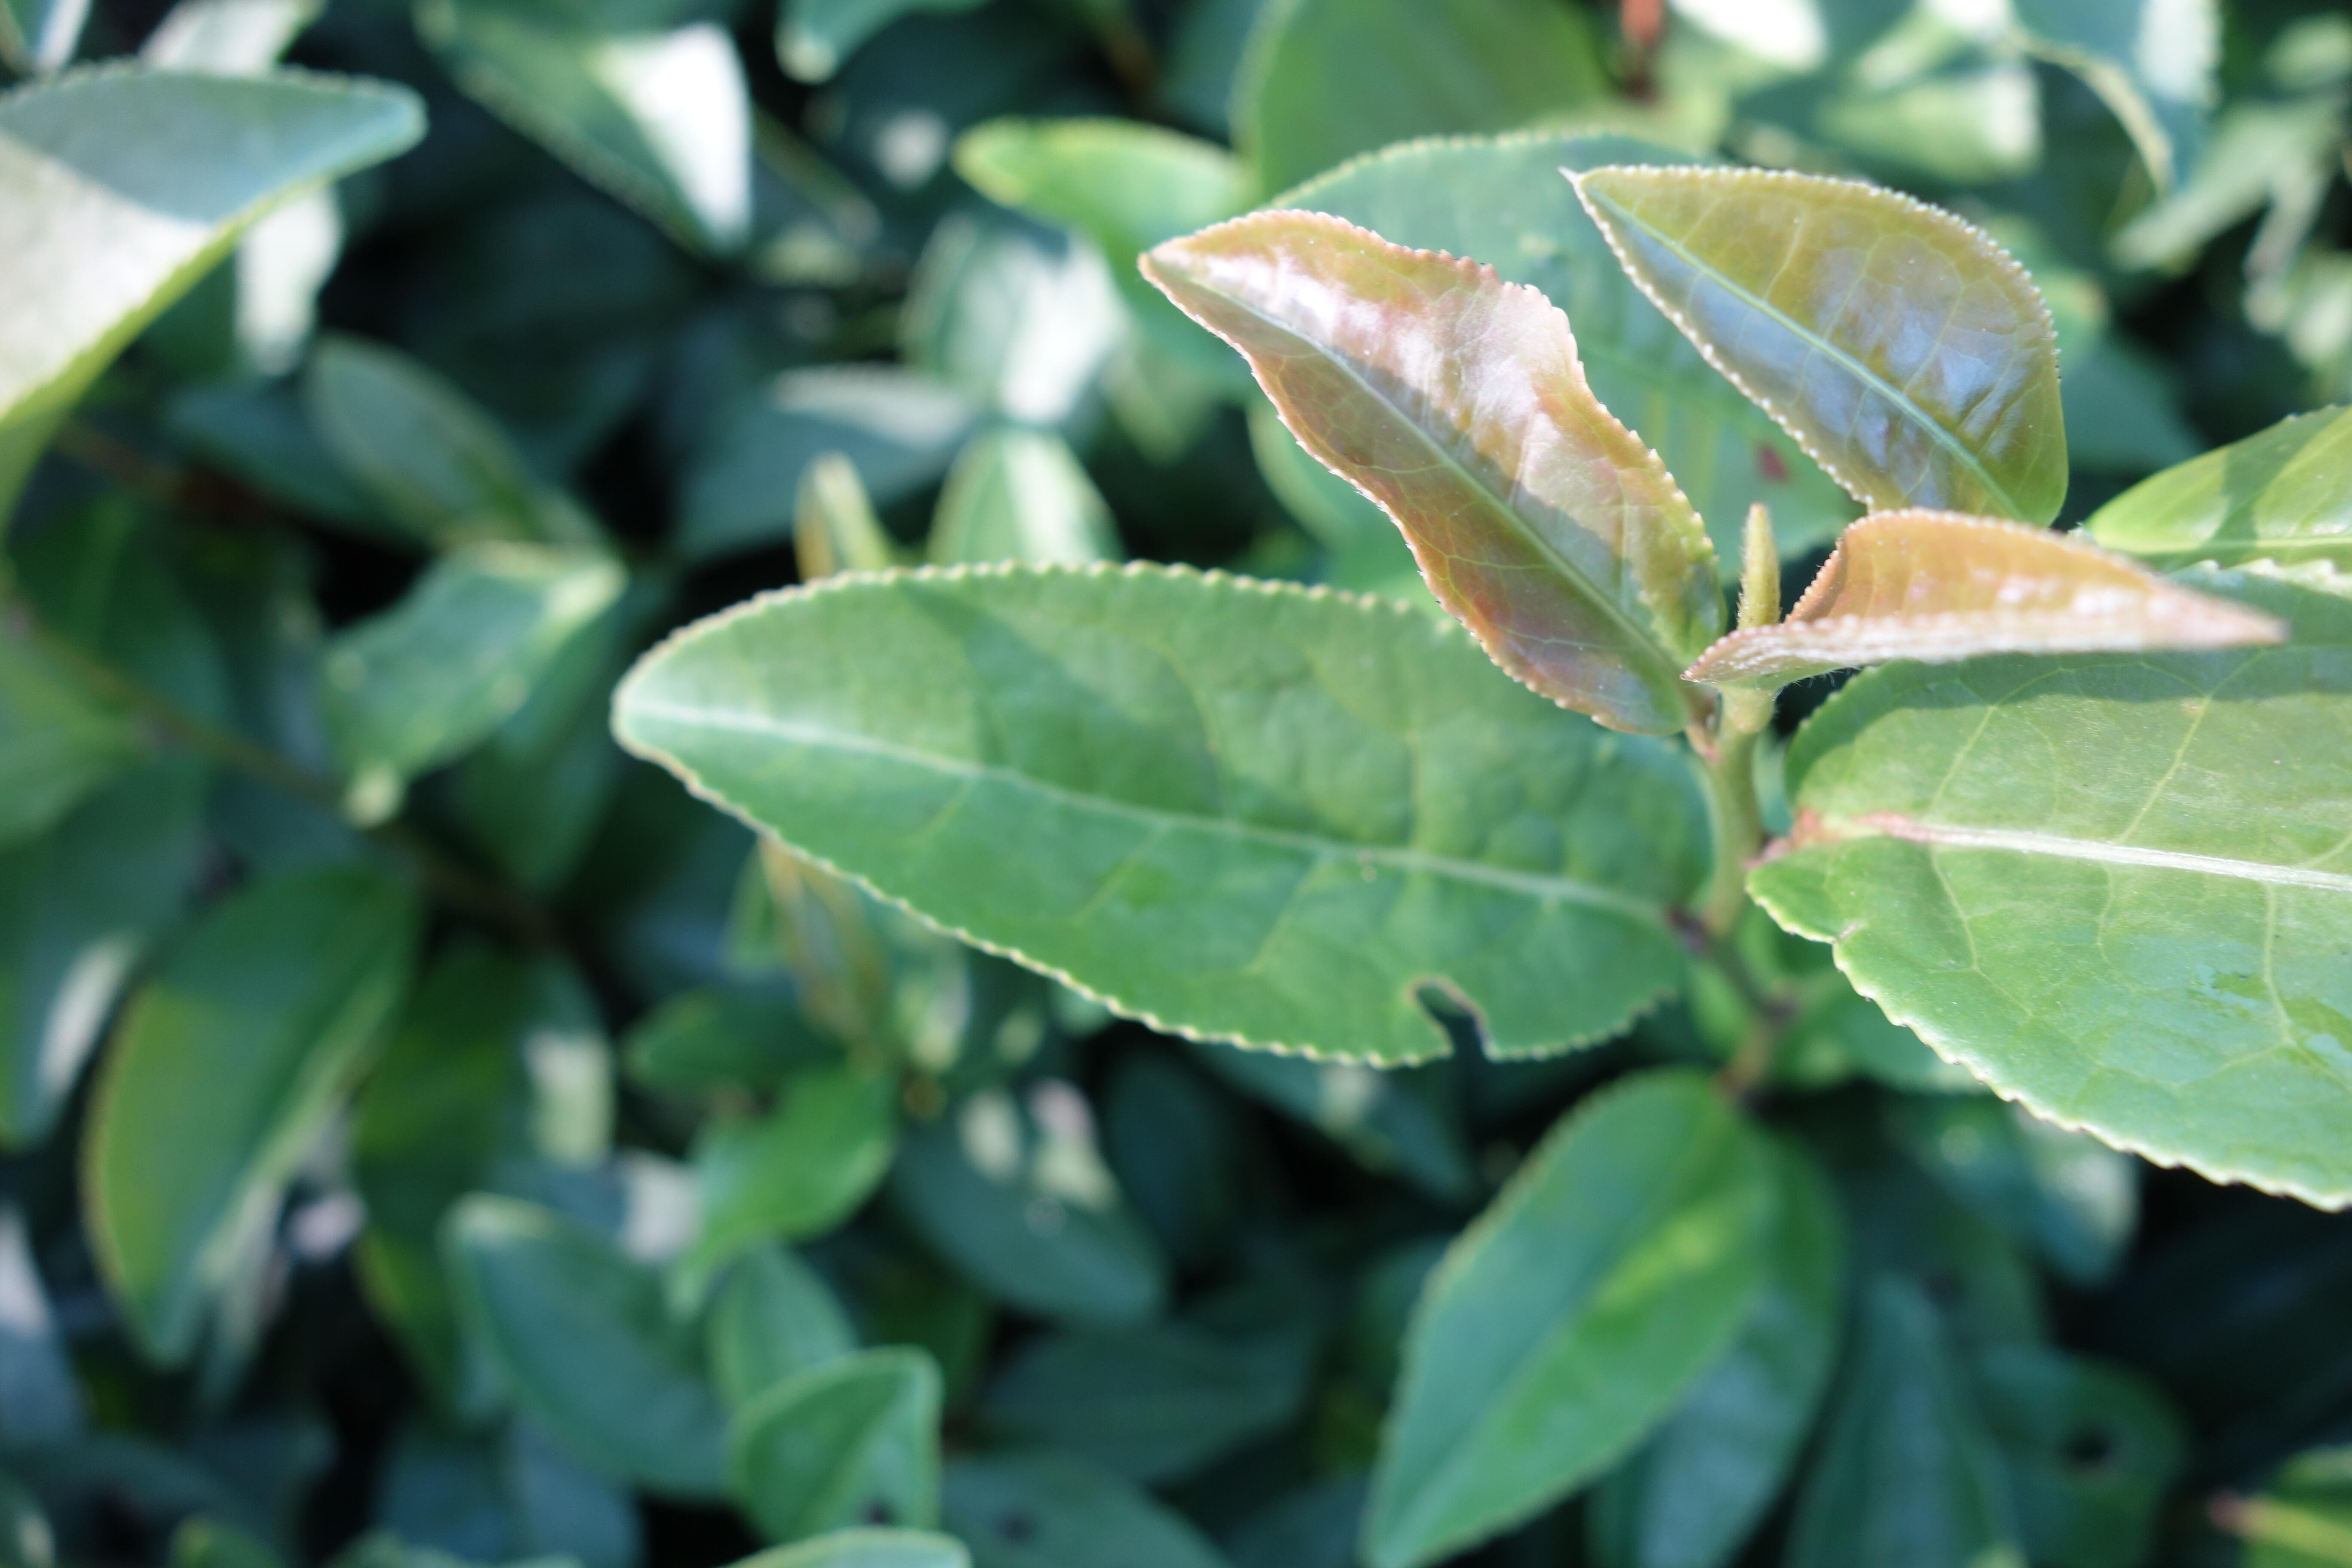chihuo_low: (605, 551, 1718, 1071)
tanju_low: (1134, 212, 1720, 737), (1573, 164, 2072, 520), (1690, 509, 2289, 731)
